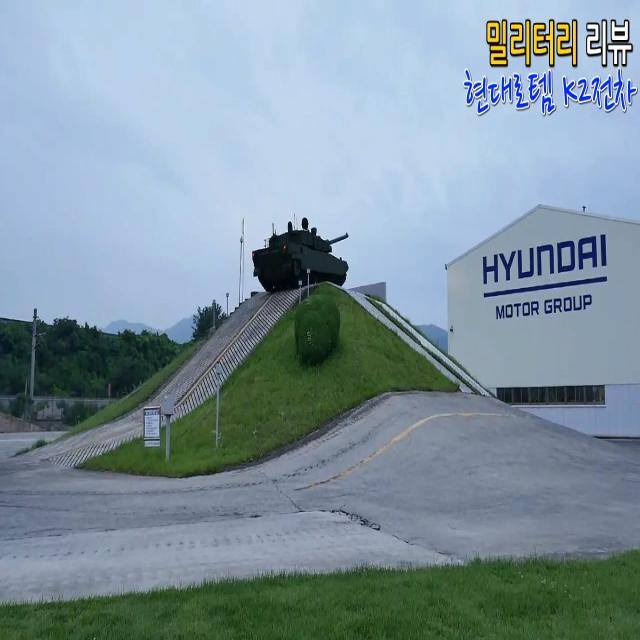korea tank: (248, 210, 354, 297)
